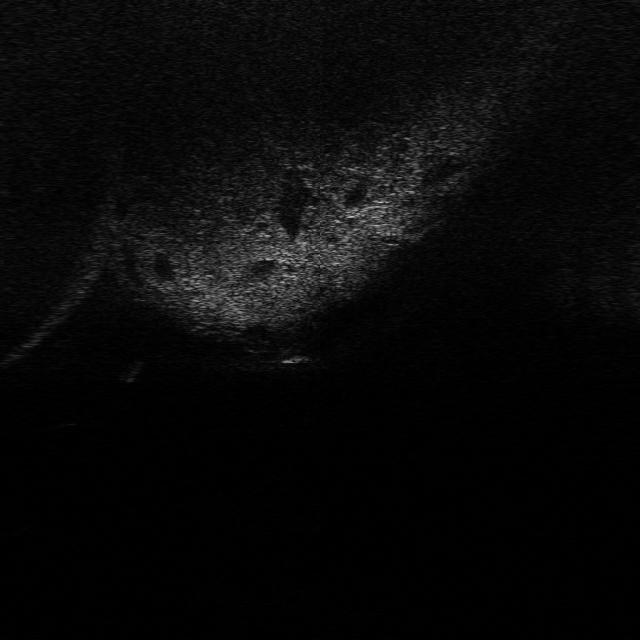cube: (276, 345, 316, 366)
cylinder: (117, 357, 143, 384)
